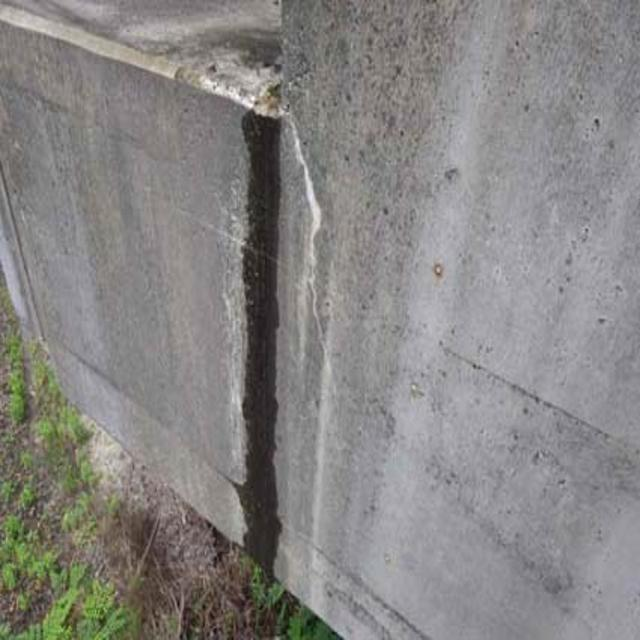leakage: (220, 96, 313, 600)
